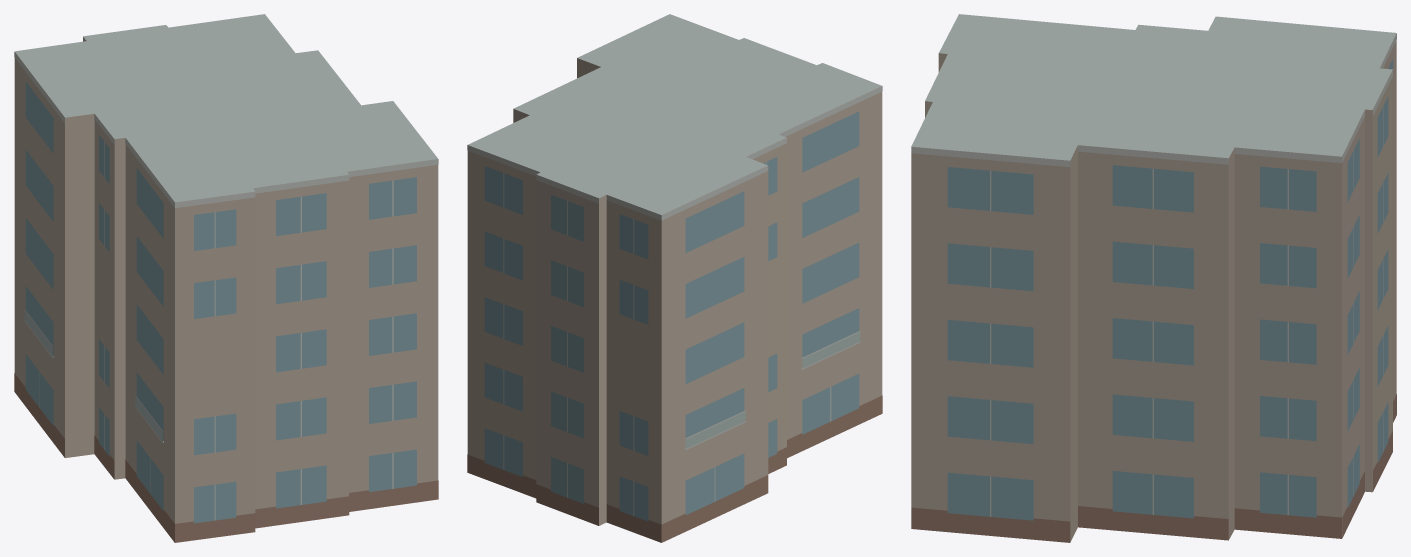
File: survey-upis-32490495.glb
3 views of the same model, side by side, from view 1: azimuth 30°, elevation 25°; view 2: azimuth 150°, elevation 25°; view 3: azimuth 270°, elevation 25° (orthographic). The views are drawn at different scales.
Visible parts, largest first — view 1: survey-upis-32490495.tmp; view 2: survey-upis-32490495.tmp; view 3: survey-upis-32490495.tmp.
Part boxes in pixels (x1=…): survey-upis-32490495.tmp: x1=14, y1=14, x2=438, y2=542; survey-upis-32490495.tmp: x1=467, y1=14, x2=882, y2=542; survey-upis-32490495.tmp: x1=911, y1=14, x2=1396, y2=542.
Bounding box in the file's own units: 11.91 × 14.45 × 16.65.
